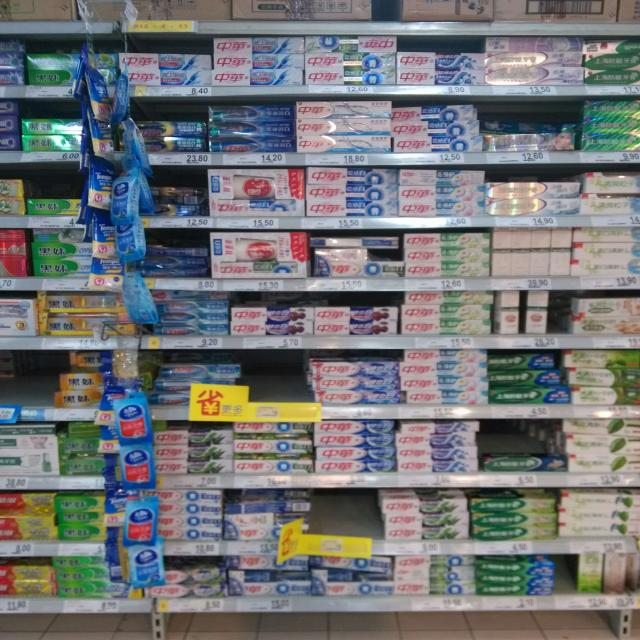unorganised: (310, 552, 396, 576), (480, 114, 576, 133), (152, 362, 249, 378), (488, 356, 561, 374), (227, 490, 316, 501), (314, 246, 371, 261)
